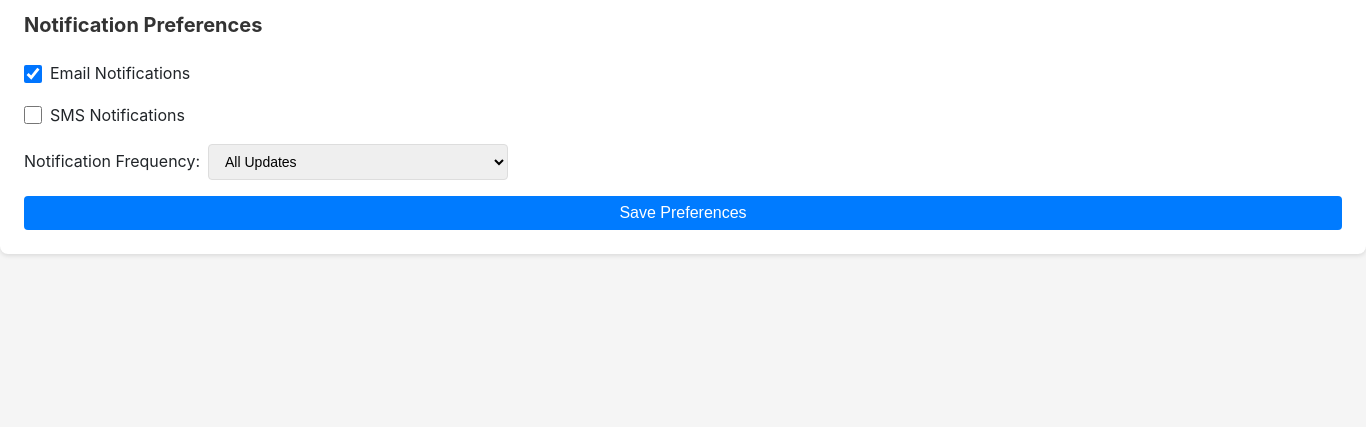
NotificationPreferences › should save preferences successfully
This screenshot has width=1366, height=427.
Step 1. Click the button "Save Preferences" → (683, 213), box x1=24 y1=196 x2=1342 y2=230
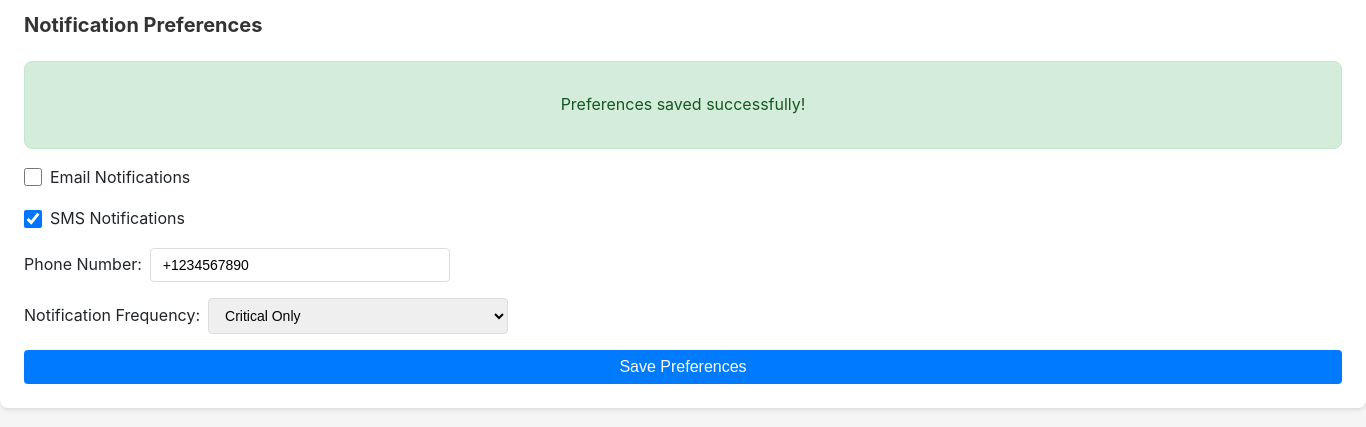
expect the text "Preferences saved successfully!" is shown: met, box x1=24 y1=61 x2=1342 y2=149
